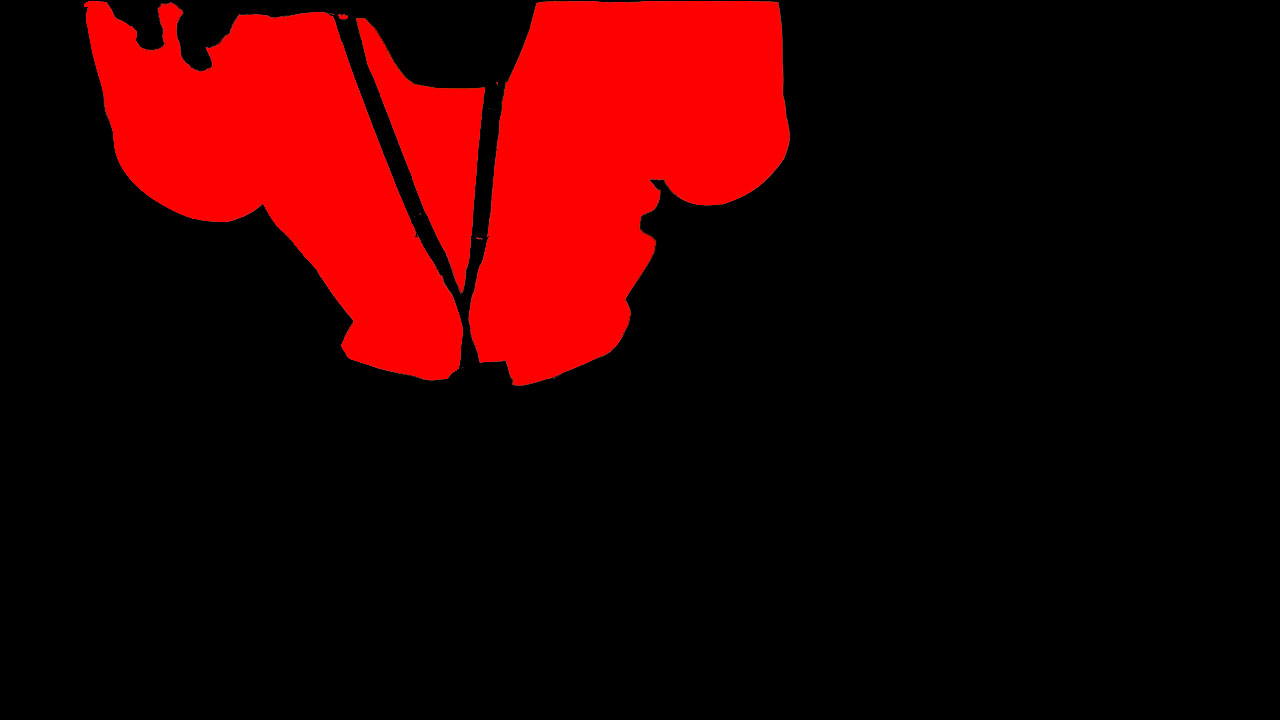uniforme_ifmt: (84, 4, 793, 395)
